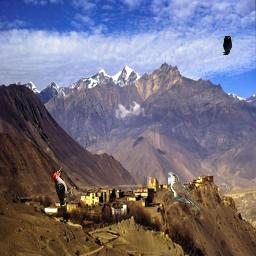Crow: (222, 36, 232, 55)
Cuckoo: (168, 172, 204, 212)
Woodpecker: (53, 167, 76, 205)
